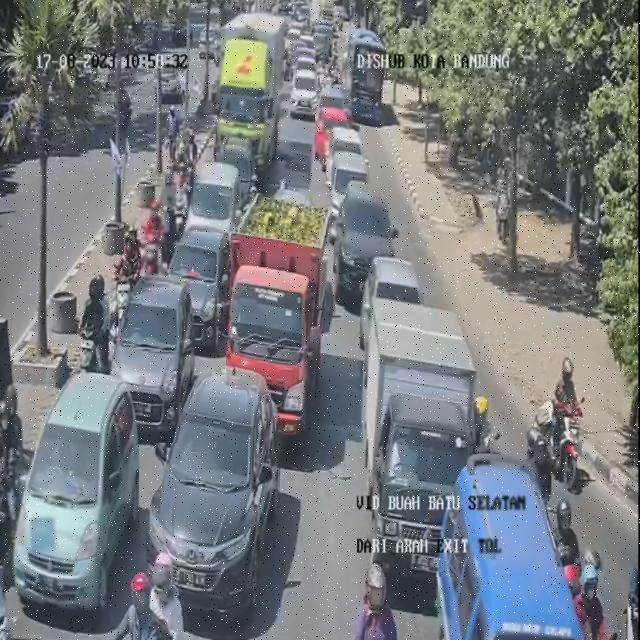cars: (358, 299, 478, 577), (147, 368, 279, 616), (12, 372, 139, 610), (438, 454, 583, 640), (110, 274, 194, 443), (334, 182, 400, 304), (168, 226, 231, 351), (361, 256, 423, 348), (185, 162, 242, 232), (326, 126, 369, 217), (329, 150, 369, 241), (216, 134, 257, 207), (316, 106, 351, 160)
motorcycle: (544, 356, 592, 496), (0, 380, 34, 558), (123, 547, 180, 640), (74, 271, 114, 401), (548, 499, 584, 615), (114, 232, 142, 336), (141, 195, 167, 276), (170, 159, 193, 238)
truck: (227, 196, 334, 435), (217, 12, 284, 168)
